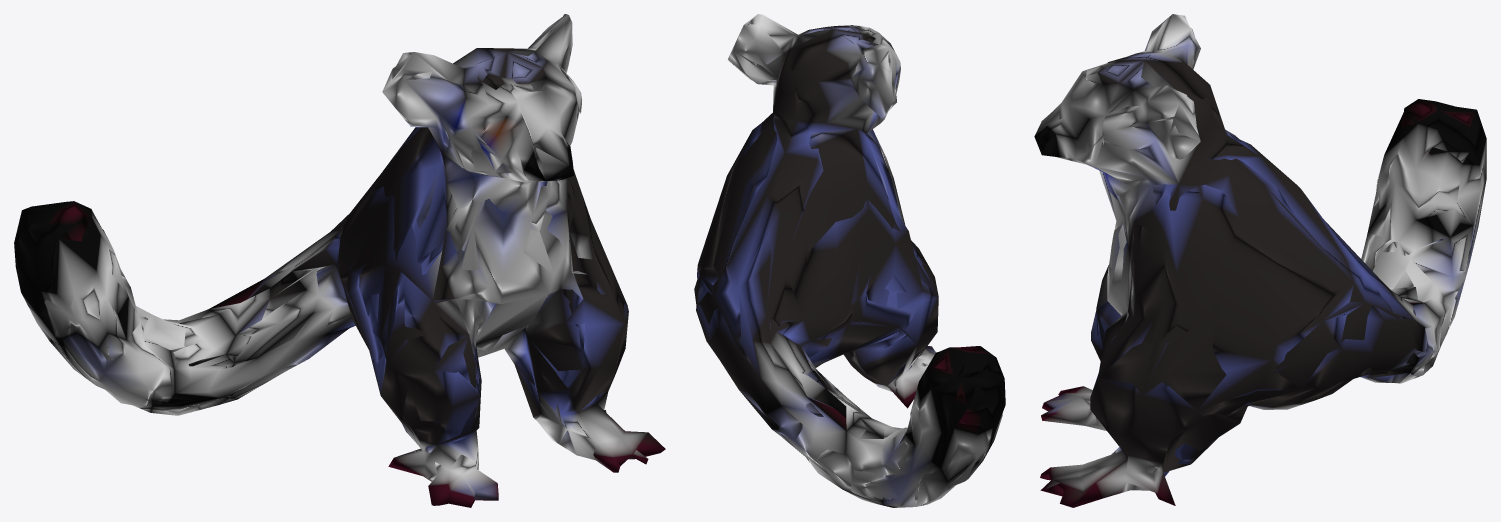
Rendered from gen3d-lemur-lod0.glb.
3 renders of one model, left to right at view 1: azimuth 30°, elevation 25°; view 2: azimuth 150°, elevation 25°; view 3: azimuth 270°, elevation 25°, orthographic. The views are drawn at different scales.
Parts seen in each view (by area): view 1: part_0; view 2: part_0; view 3: part_0.
Part boxes in pixels (<box>): part_0: <box>14,14,665,507</box>; part_0: <box>694,14,1005,507</box>; part_0: <box>1034,14,1486,507</box>.
Size of the model in its own units: 1.14 by 0.9888 by 0.9983.
